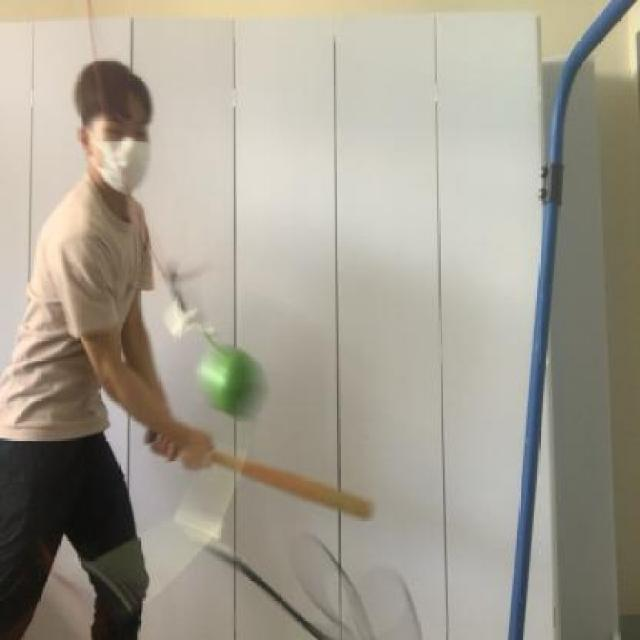baseball: (192, 342, 268, 424)
